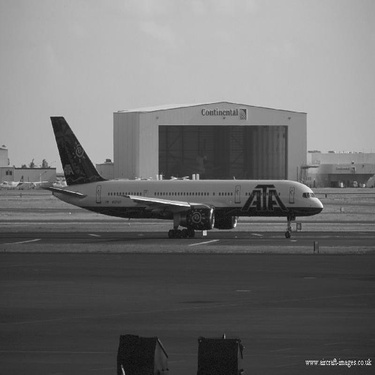airplane: (22, 92, 336, 260)
